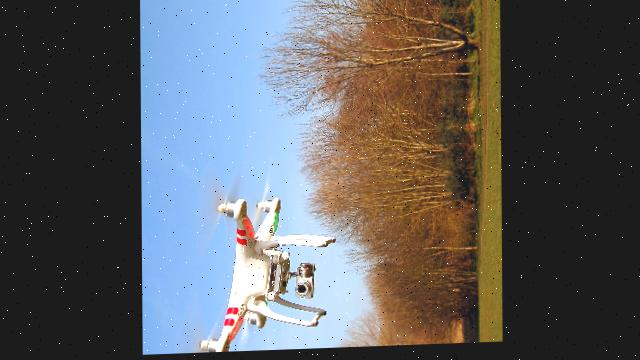drone: (195, 193, 338, 354)
